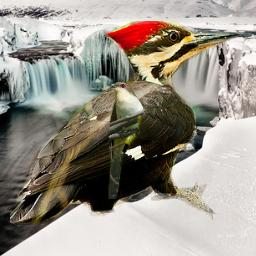Cuckoo: (105, 81, 145, 199)
Woodpecker: (10, 21, 244, 226)
